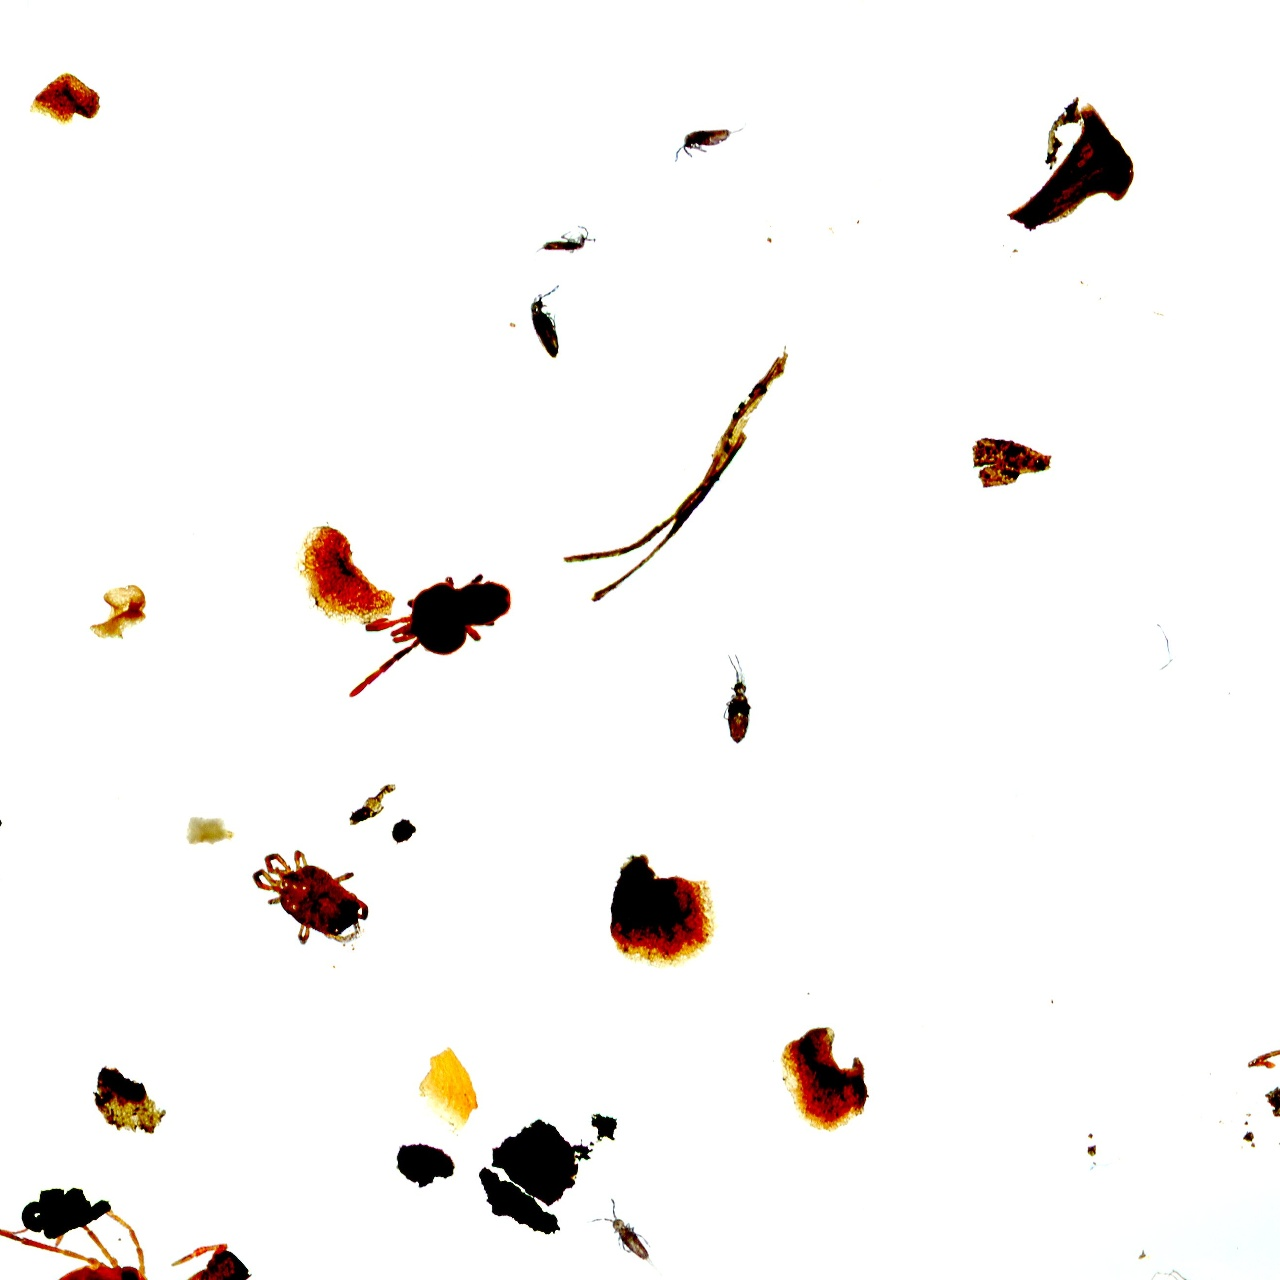arthropod: (343, 567, 523, 703), (0, 1200, 247, 1280), (247, 844, 380, 951), (576, 1183, 686, 1280), (704, 642, 765, 776), (1231, 968, 1280, 1122), (512, 278, 578, 393), (673, 117, 755, 165), (533, 225, 601, 256)
